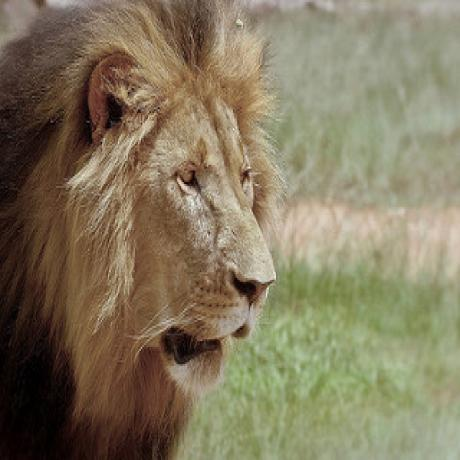Lion: (0, 0, 277, 460)
